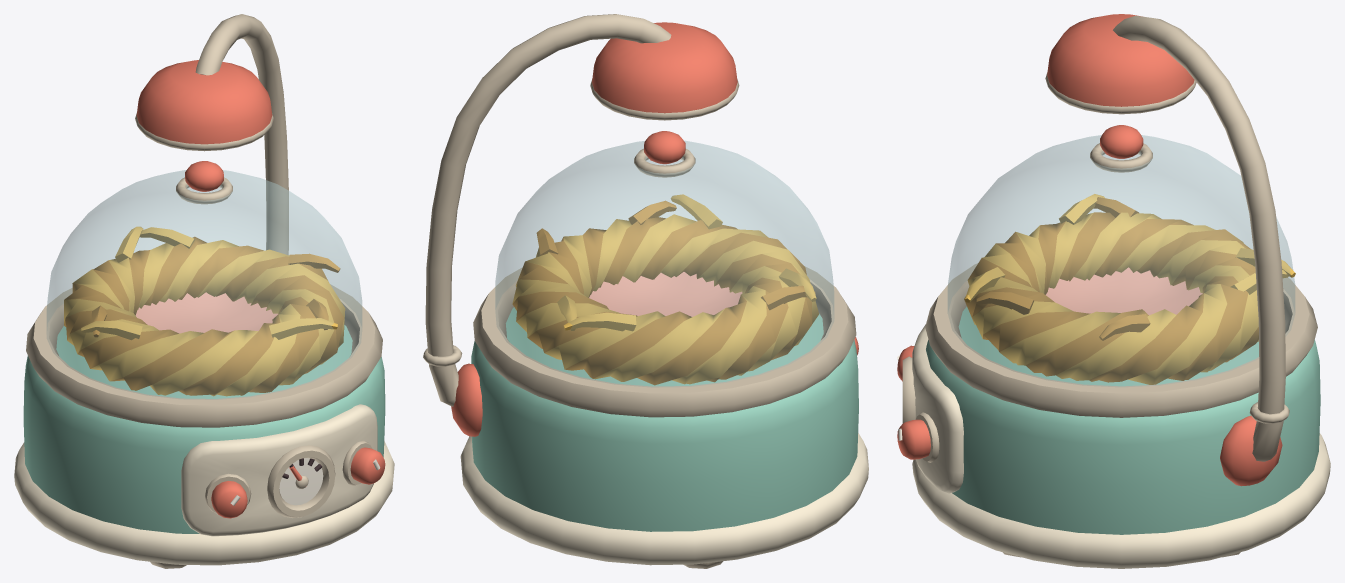
Rendered from ShopIncubator.fbx.
3 renders of one model, left to right at view 1: azimuth 30°, elevation 25°; view 2: azimuth 150°, elevation 25°; view 3: azimuth 270°, elevation 25°, orthographic. The views are drawn at different scales.
Visible parts, largest first — view 1: ShopIncubator; view 2: ShopIncubator; view 3: ShopIncubator.
Boxes of the visible parts, bbox=[...] form: ShopIncubator: bbox=[14, 14, 394, 568]; ShopIncubator: bbox=[423, 14, 868, 568]; ShopIncubator: bbox=[897, 14, 1330, 568].
Size of the model in its own units: 0.944 by 1.26 by 0.9783.
